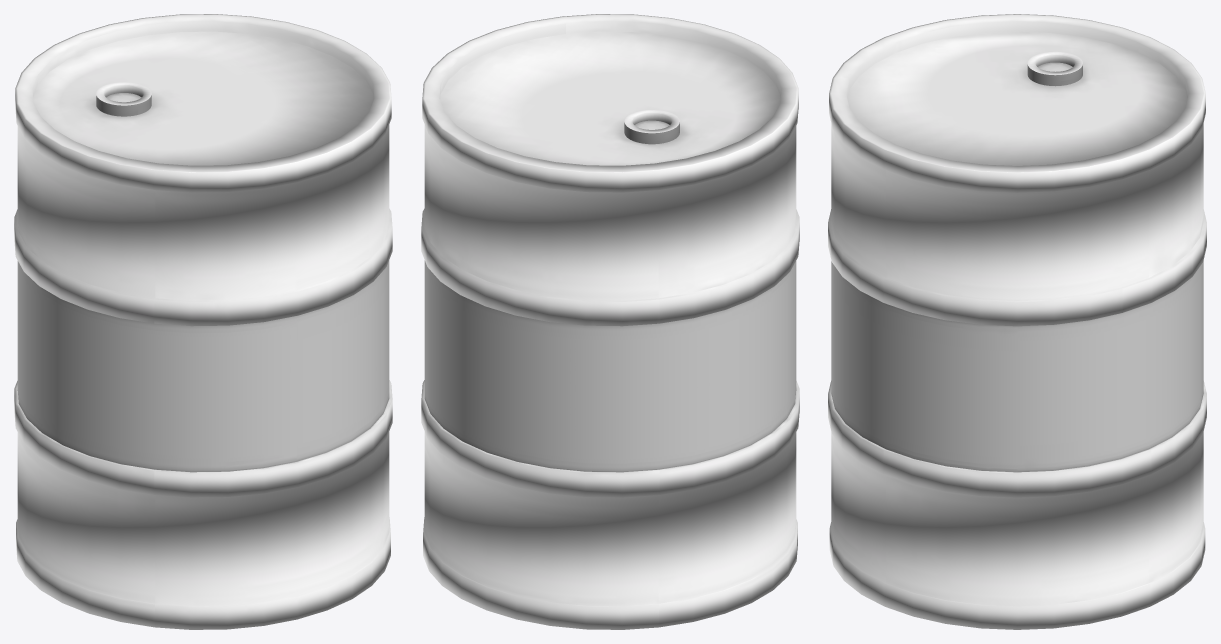
Rendered from barril_07.glb.
3 renders of one model, left to right at view 1: azimuth 30°, elevation 25°; view 2: azimuth 150°, elevation 25°; view 3: azimuth 270°, elevation 25°, orthographic.
Visible parts, largest first — view 1: barril01, barril02; view 2: barril01, barril02; view 3: barril01, barril02.
Part boxes in pixels (x1=…): barril01: x1=14, y1=14, x2=392, y2=629; barril02: x1=17, y1=82, x2=389, y2=472; barril01: x1=421, y1=14, x2=799, y2=629; barril02: x1=424, y1=110, x2=796, y2=472; barril01: x1=828, y1=14, x2=1206, y2=629; barril02: x1=831, y1=51, x2=1203, y2=472.
Bounding box in the file's own units: 0.7423 × 0.9896 × 0.7423.
Materials: 2 (2 with a texture image).
